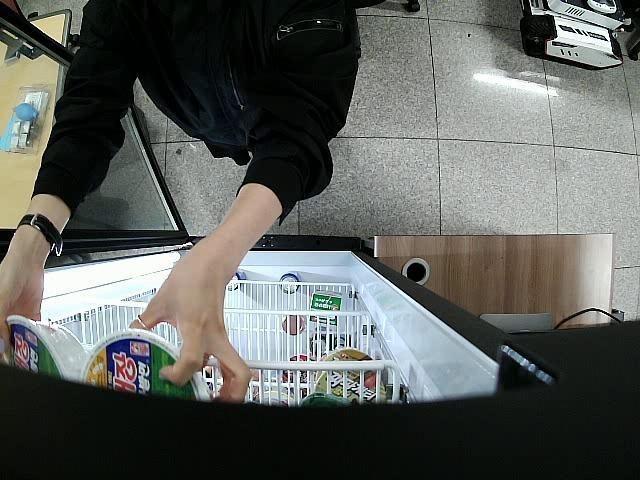09_yukGaeJang: (82, 326, 210, 403), (0, 314, 87, 398)
